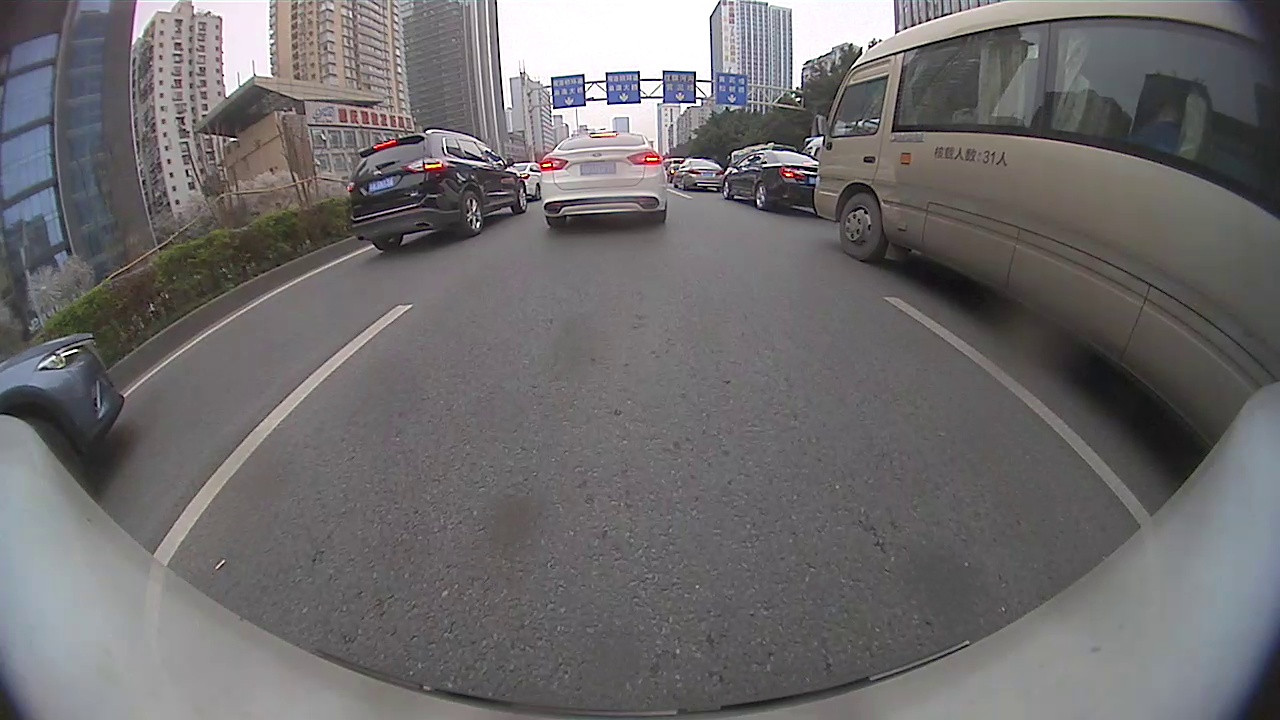bus: (814, 0, 1278, 449)
car: (347, 130, 528, 250), (0, 333, 124, 492), (541, 132, 667, 229), (724, 150, 819, 212), (673, 158, 724, 192), (511, 161, 541, 197)
front: (840, 192, 888, 263), (512, 181, 527, 214), (722, 177, 733, 201)
rear: (455, 190, 484, 236), (754, 183, 770, 211)
